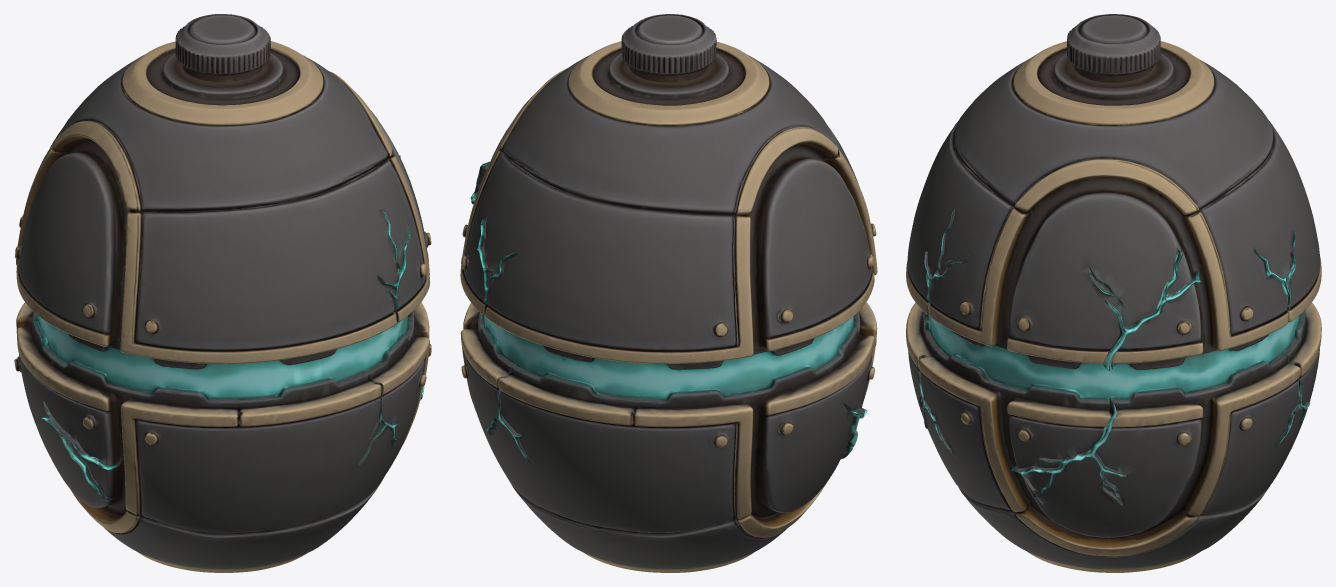
File: grenade.glb
3 renders of one model, left to right at view 1: azimuth 30°, elevation 25°; view 2: azimuth 150°, elevation 25°; view 3: azimuth 270°, elevation 25°, orthographic.
Visible parts, largest first — view 1: tripo_node_6440f1b3-8739-40c2-a011-f1d668304bff; view 2: tripo_node_6440f1b3-8739-40c2-a011-f1d668304bff; view 3: tripo_node_6440f1b3-8739-40c2-a011-f1d668304bff.
Part boxes in pixels (x1,y1,x2,y2): tripo_node_6440f1b3-8739-40c2-a011-f1d668304bff: (14,14,431,572); tripo_node_6440f1b3-8739-40c2-a011-f1d668304bff: (460,14,877,572); tripo_node_6440f1b3-8739-40c2-a011-f1d668304bff: (906,14,1321,572).
Bounding box in the file's own units: 0.7402 × 0.981 × 0.7224.
Materials: 1 (1 with a texture image).
